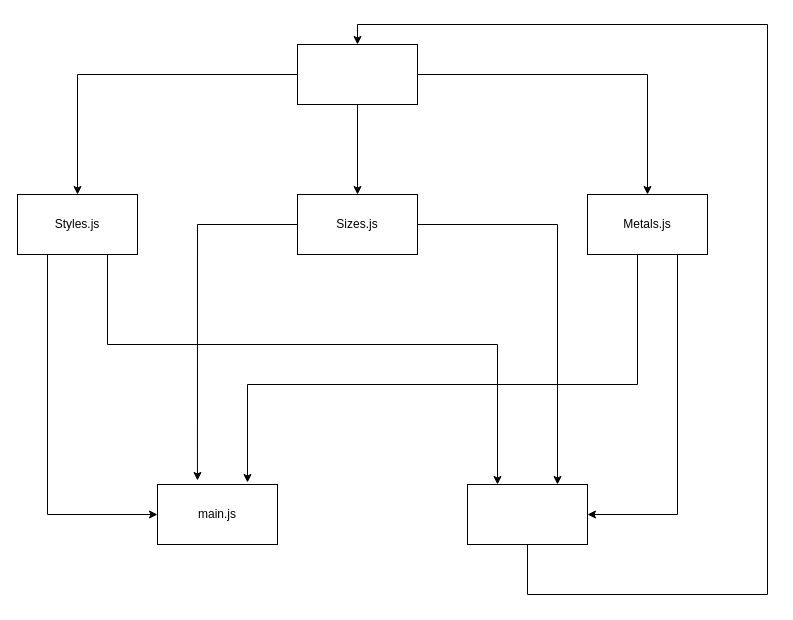
Some shapes in this 793 by 620 pixel diagram are drawn without their labels. Here are the shapes that lost their labels. From the top down, the centre of each, then its label:
(357,74): database.json
(527,514): Orders.js
